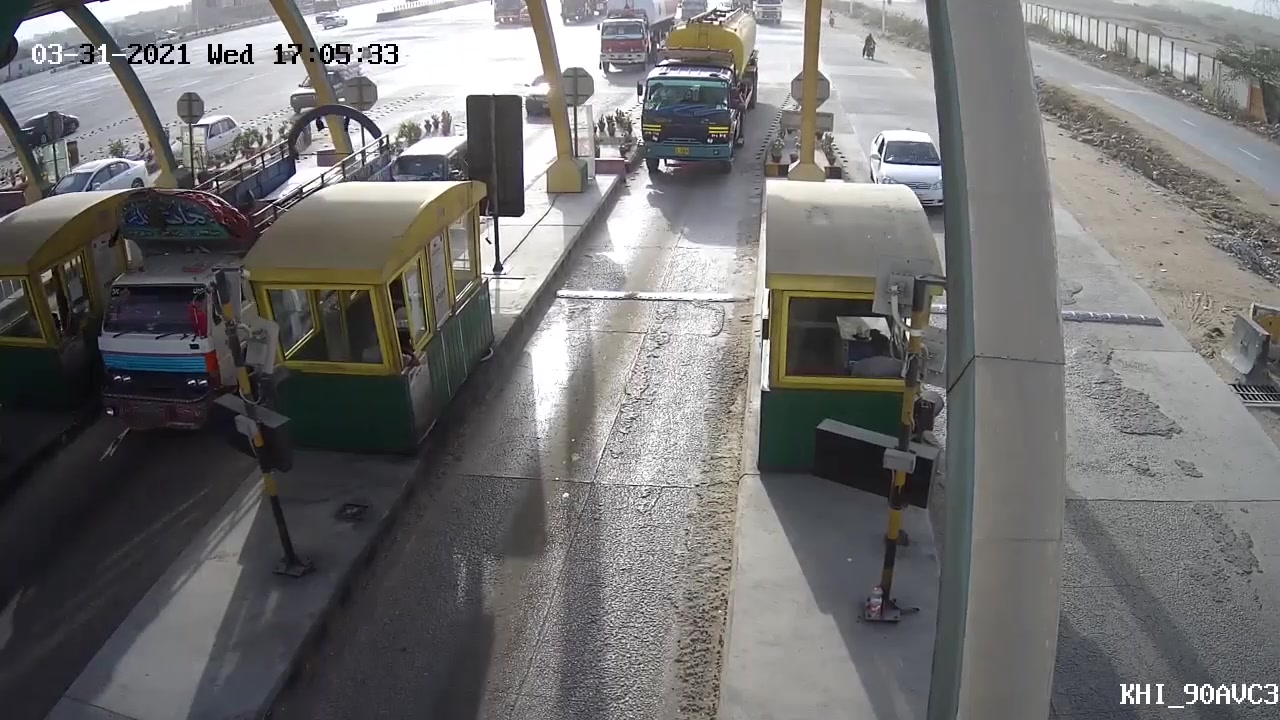F6: (630, 5, 764, 186)
